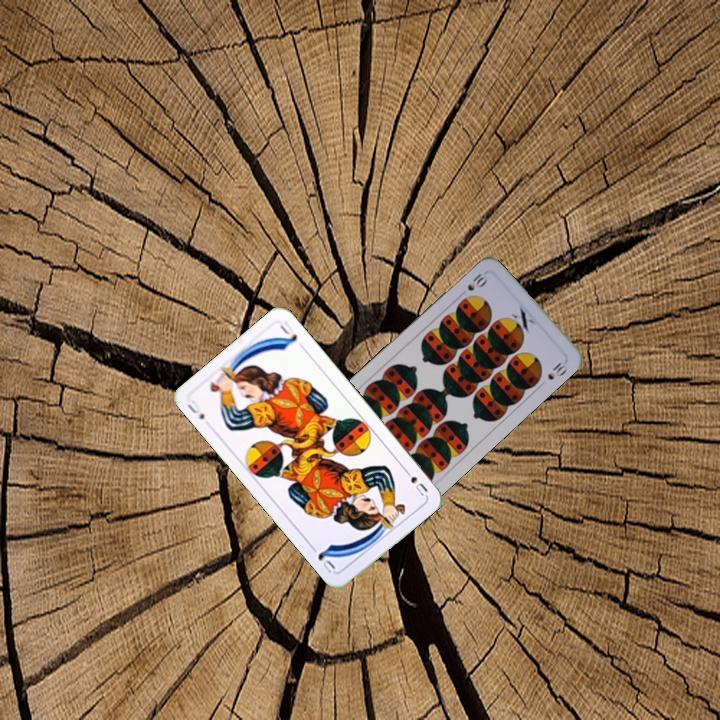S10: (463, 269, 490, 294)
SU: (399, 464, 430, 499), (183, 396, 207, 422)
